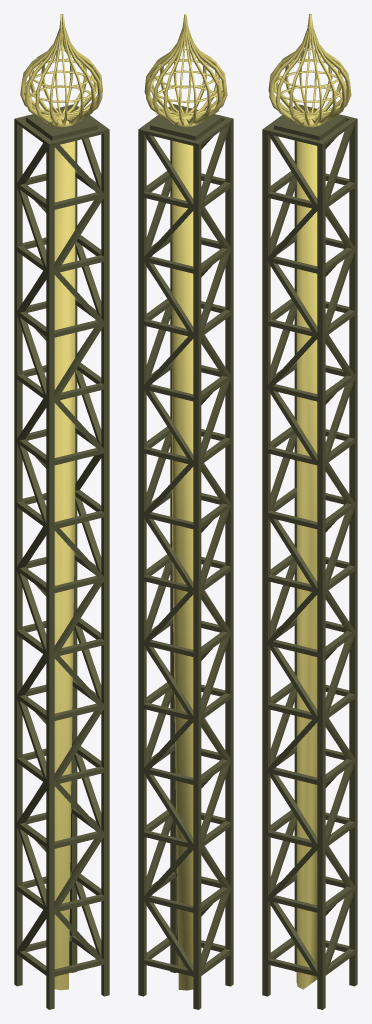
File: Goldentower.fbx
The picture shows the model from 3 angles, left to right: view 1: azimuth 30°, elevation 25°; view 2: azimuth 150°, elevation 25°; view 3: azimuth 330°, elevation 25°; orthographic projection.
Parts seen in each view (by area): view 1: Cube.044; view 2: Cube.044; view 3: Cube.044.
Part boxes in pixels (x1,y1,x2,y2): Cube.044: [14, 14, 109, 1009]; Cube.044: [138, 14, 233, 1009]; Cube.044: [262, 14, 357, 1009].
Bounding box in the file's own units: 316 × 4081 × 316.
